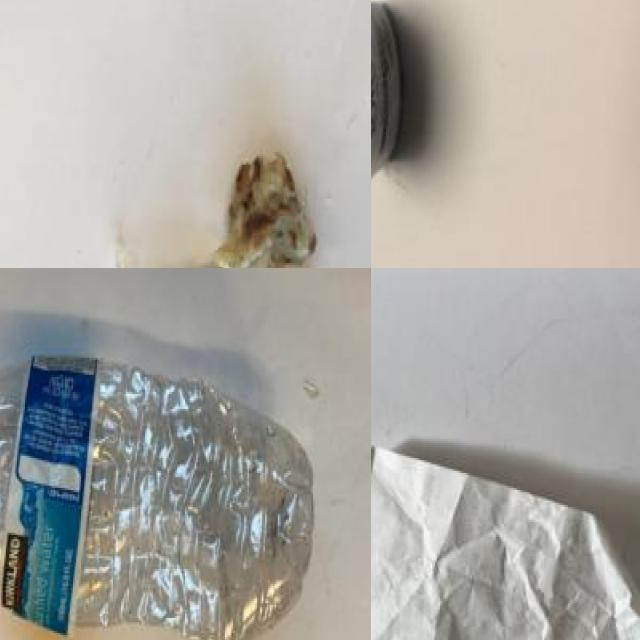compost: (70, 133, 343, 268)
paper: (371, 448, 640, 640)
plastic: (0, 355, 319, 640)
trash: (371, 0, 422, 247)
